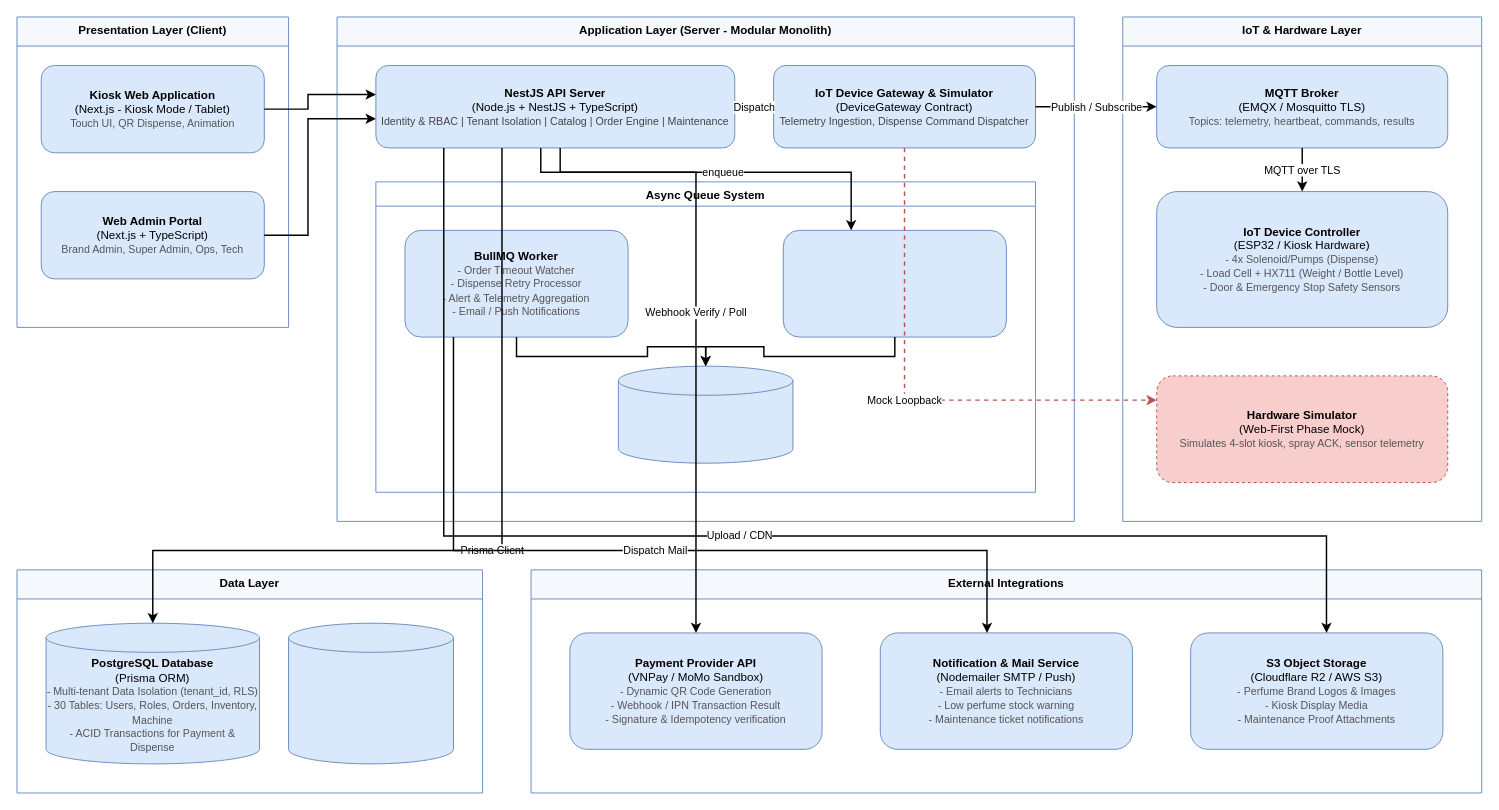
Some shapes in this 1499 by 810 pixel diagram are drawn without their labels. Each missing label, with the centre of its shape:
"BullMQ (Job Queue) - Order Queue - Telemetry Queue - Notification Queue" belongs at point (894, 283).
"Redis (Queue DB & Cache)" belongs at point (705, 414).
"Redis Cache - Session Store - API Rate Limiting - Idempotency Locks" belongs at point (370, 693).
